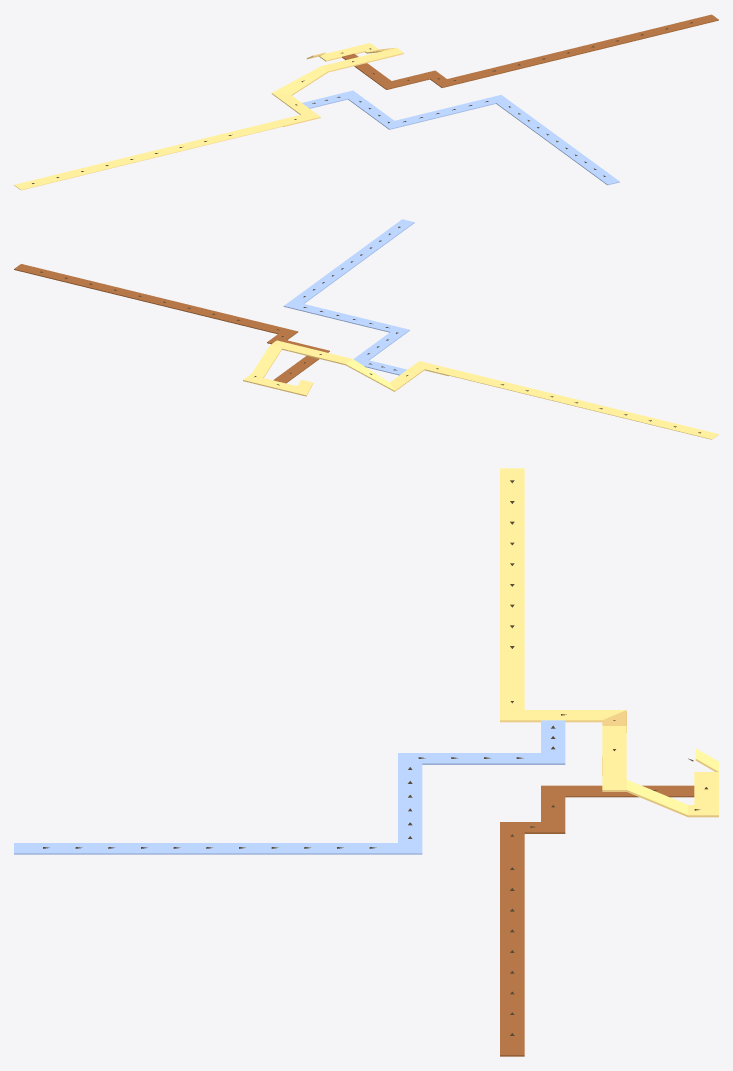
The model's file is Nivel_05_Final_Movil_Gameplay.fbx.
3 renders of one model, top to bottom at view 1: azimuth 30°, elevation 25°; view 2: azimuth 150°, elevation 25°; view 3: azimuth 270°, elevation 25°, orthographic. The views are drawn at different scales.
Visible parts, largest first — view 1: L05_Path_Extension_E_v02_GP, L05_Path_Extension_W_v02_GP, L05_Path_A_v02_GP, L05_Path_C_01_GP, L05_Path_B_v02_GP, L05_Path_C_03_GP, L05_Path_C_04_GP, L05_Path_A_v02_Tail_B_GP, L05_Path_C_05_GP; view 2: L05_Path_Extension_W_v02_GP, L05_Path_Extension_E_v02_GP, L05_Path_C_01_GP, L05_Path_A_v02_GP, L05_Path_B_v02_GP, L05_Path_C_03_GP, L05_Path_C_04_GP, L05_Path_A_v02_Descent_GP; view 3: L05_Path_Extension_W_v02_GP, L05_Path_Extension_E_v02_GP, L05_Path_C_01_GP, L05_Path_A_v02_GP, L05_Path_B_v02_GP, L05_Path_C_04_GP, L05_Path_C_03_GP, L05_Path_A_v02_Descent_GP.
Boxes of the visible parts, box(x1,y1,x2,y2) form: L05_Path_Extension_E_v02_GP: box(462, 14, 718, 81); L05_Path_Extension_W_v02_GP: box(14, 120, 283, 190); L05_Path_A_v02_GP: box(271, 52, 385, 126); L05_Path_C_01_GP: box(489, 95, 619, 185); L05_Path_B_v02_GP: box(342, 53, 468, 89); L05_Path_C_03_GP: box(395, 98, 495, 126); L05_Path_C_04_GP: box(341, 90, 401, 129); L05_Path_A_v02_Tail_B_GP: box(319, 46, 364, 61); L05_Path_C_05_GP: box(302, 93, 347, 108); L05_Path_Extension_W_v02_GP: box(449, 370, 718, 439); L05_Path_Extension_E_v02_GP: box(14, 264, 270, 330); L05_Path_C_01_GP: box(283, 219, 414, 309); L05_Path_A_v02_GP: box(288, 345, 455, 391); L05_Path_B_v02_GP: box(264, 325, 329, 383); L05_Path_C_03_GP: box(296, 303, 397, 332); L05_Path_C_04_GP: box(353, 327, 409, 364); L05_Path_A_v02_Descent_GP: box(252, 340, 294, 376); L05_Path_Extension_W_v02_GP: box(500, 468, 524, 689); L05_Path_Extension_E_v02_GP: box(500, 844, 524, 1056); L05_Path_C_01_GP: box(14, 843, 422, 854); L05_Path_A_v02_GP: box(500, 689, 626, 775); L05_Path_B_v02_GP: box(500, 785, 694, 844); L05_Path_C_04_GP: box(398, 753, 565, 764); L05_Path_C_03_GP: box(398, 763, 422, 842); L05_Path_A_v02_Descent_GP: box(602, 774, 687, 816).
Size of the model in its own units: 170 by 3.74 by 86.3.
